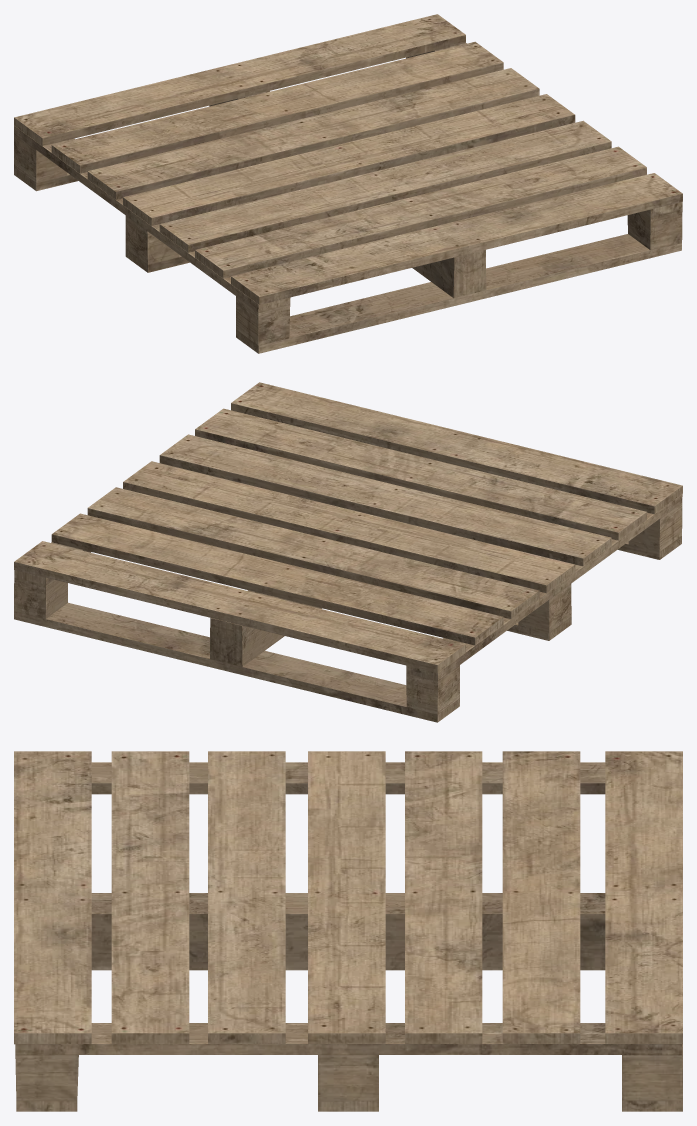
File: pallet.glb
3 renders of one model, top to bottom at view 1: azimuth 30°, elevation 25°; view 2: azimuth 150°, elevation 25°; view 3: azimuth 270°, elevation 25°, orthographic. The views are drawn at different scales.
Visible parts, largest first — view 1: SM_Pallet_00a_MI_Pallet_00_0; view 2: SM_Pallet_00a_MI_Pallet_00_0; view 3: SM_Pallet_00a_MI_Pallet_00_0.
Part boxes in pixels (x1,y1,x2,y2): SM_Pallet_00a_MI_Pallet_00_0: (14,14,682,353); SM_Pallet_00a_MI_Pallet_00_0: (14,382,682,722); SM_Pallet_00a_MI_Pallet_00_0: (14,751,682,1111).
Size of the model in its own units: 1.3 by 0.1686 by 1.3.
Materials: 1 (1 with a texture image).
